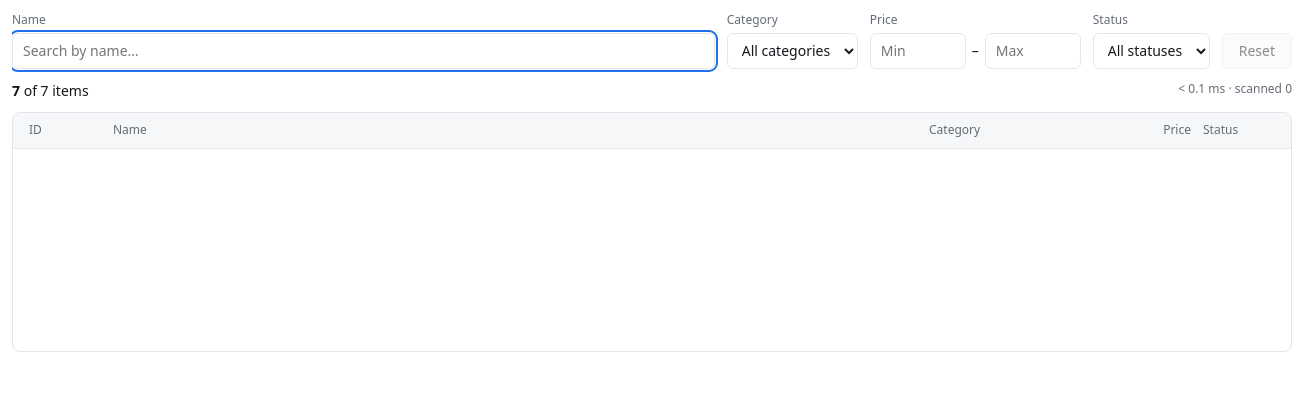
Test: SearchApp › flags an inverted price range
This screenshot has width=1304, height=398.
Type "100" into the number field named "Minimum price".
click(918, 51); type("100")  # box top-left (870, 33), bottom-right (966, 69)
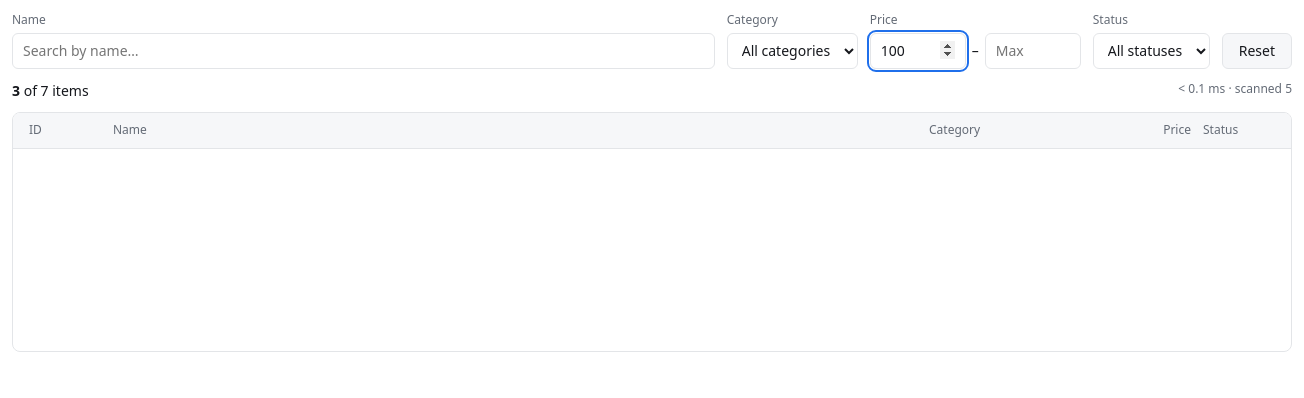
Type "50" into the number field named "Maximum price".
click(1033, 51); type("50")  # box top-left (985, 33), bottom-right (1081, 69)
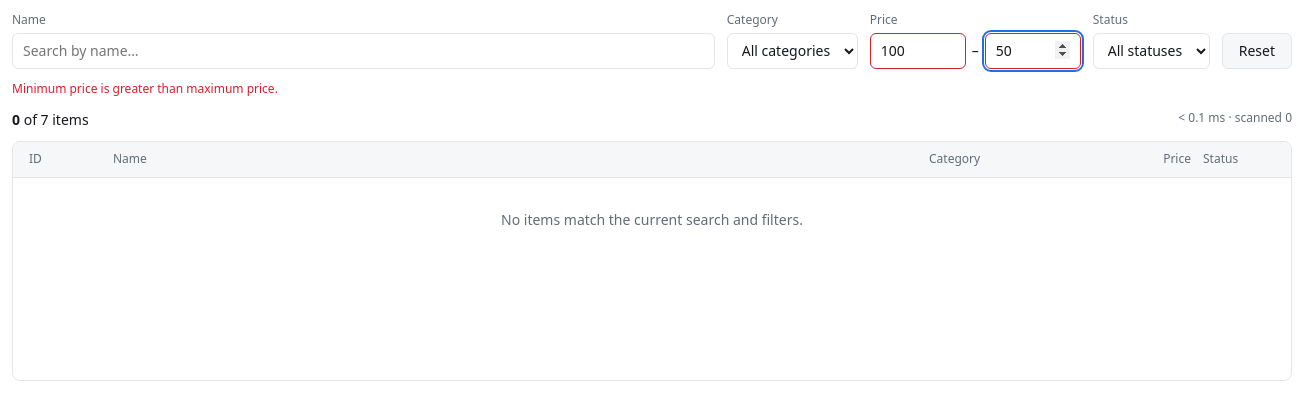
Result: the message reads "Minimum price is greater than maximum price." at top-left (12, 80), bottom-right (278, 97)
Result: the text "0 of 7 items" is shown at top-left (12, 110), bottom-right (89, 129)
